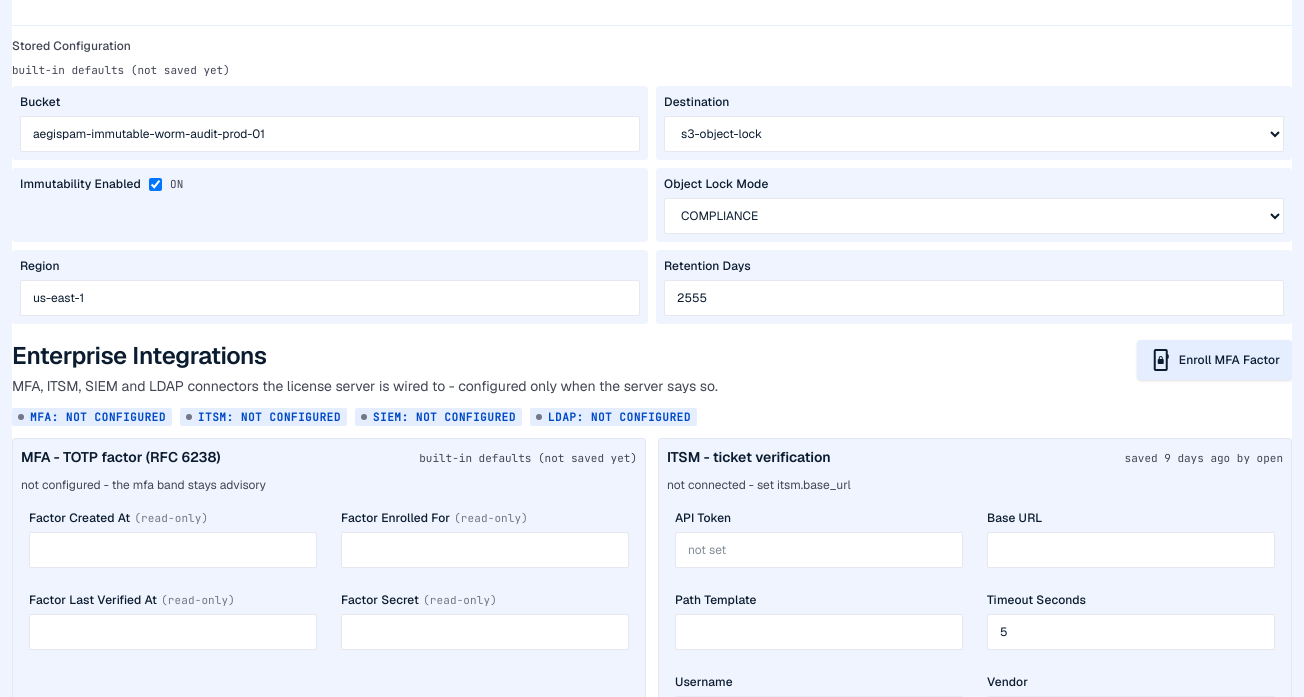
Test case: MFA enroll (screen 11, ADR-0015 11.4 - the legacy-wired action) › a dead enroll endpoint says no factor was enrolled (honest down line)
The width and height of the screenshot is (1304, 697).
(page scrolled)
Expected: the text "not connected - set itsm.base_url" is shown, [667, 477, 851, 493]
Click the button "Enroll MFA Factor".
click(1214, 360)  # box [1137, 340, 1292, 380]
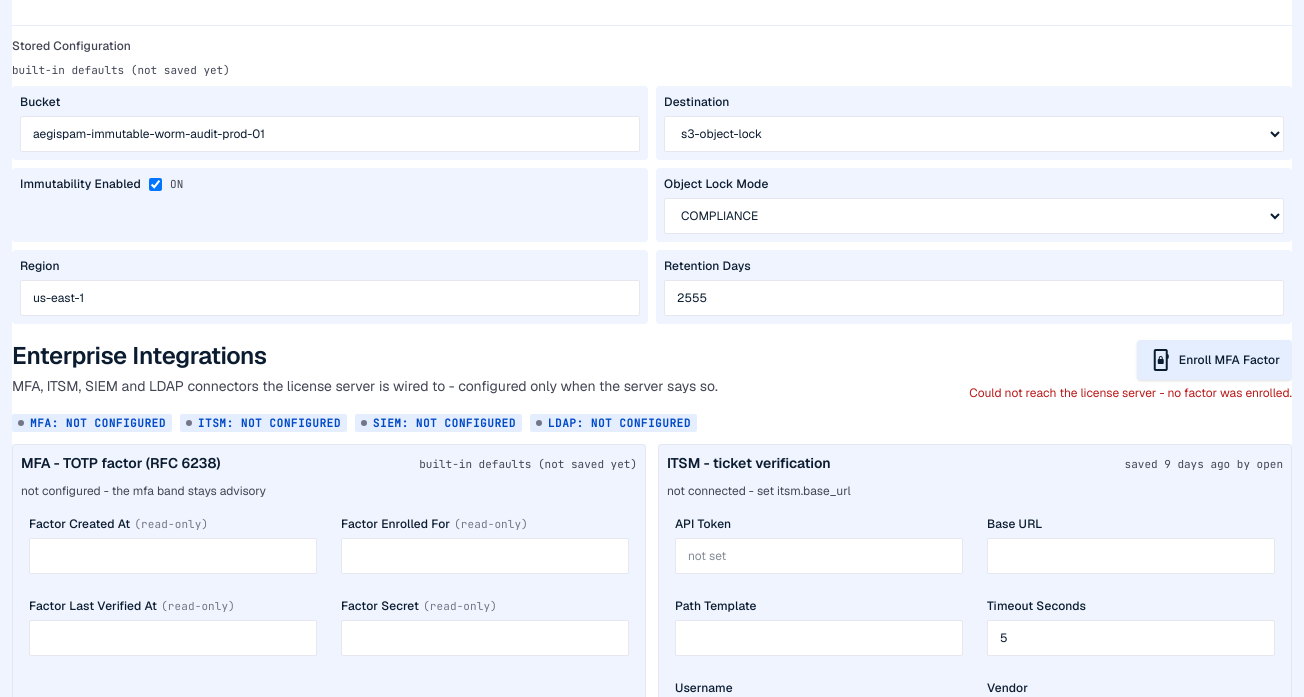
Expected: the text "Could not reach the license server - no factor was enrolled." is shown, [969, 384, 1292, 402]
